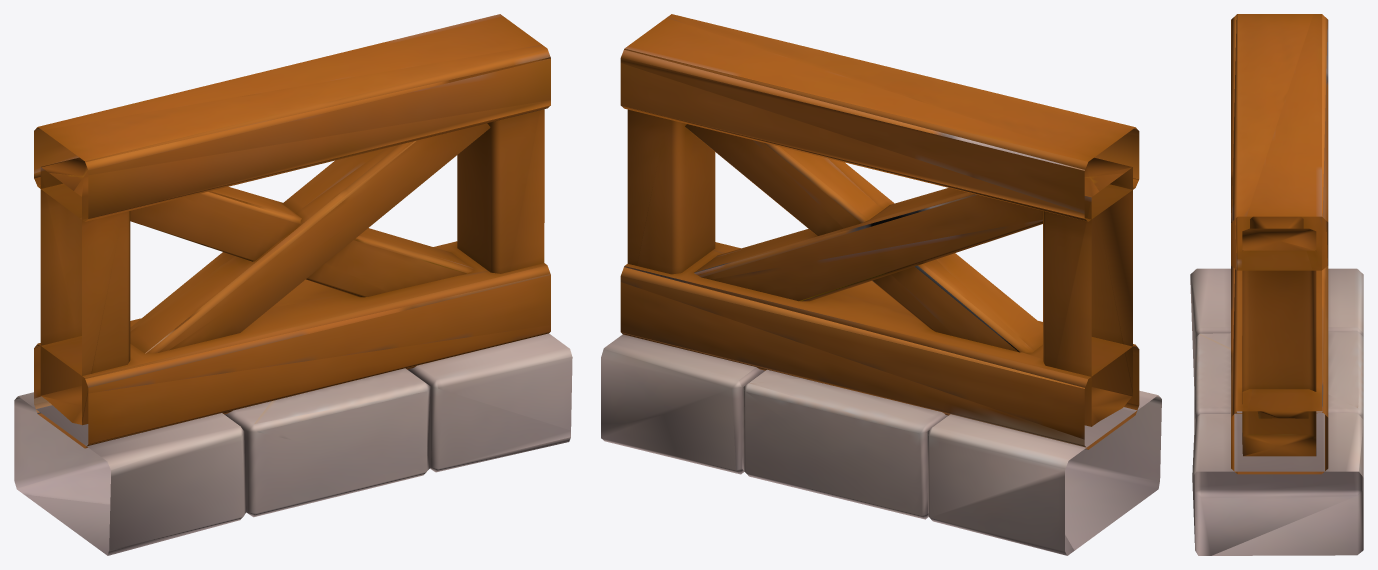
File: fence_stone_bare.glb
The picture shows the model from 3 angles, left to right: view 1: azimuth 30°, elevation 25°; view 2: azimuth 150°, elevation 25°; view 3: azimuth 270°, elevation 25°; orthographic projection. The views are drawn at different scales.
Visible parts, largest first — view 1: fence_stone; view 2: fence_stone; view 3: fence_stone.
Part boxes in pixels (bbox=[...]): fence_stone: bbox=[14, 14, 572, 555]; fence_stone: bbox=[601, 14, 1161, 555]; fence_stone: bbox=[1190, 14, 1363, 555].
Size of the model in its own units: 0.3316 by 0.2587 by 0.1199.
1 material, 1 textured.
